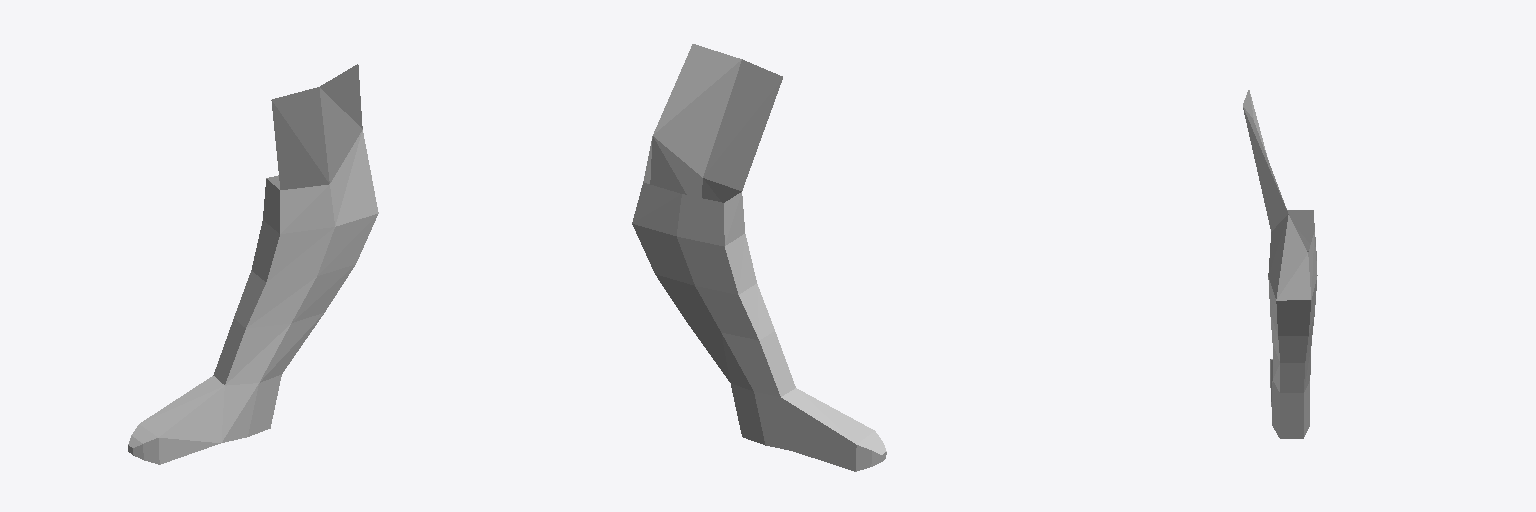
Rendered from IzqFront.obj.
The picture shows the model from 3 angles: view 1: azimuth 30°, elevation 25°; view 2: azimuth 150°, elevation 25°; view 3: azimuth 270°, elevation 25°; orthographic projection.
Visible parts, largest first — view 1: Tigre:polySurface4; view 2: Tigre:polySurface4; view 3: Tigre:polySurface4.
Boxes of the visible parts, <box> form: Tigre:polySurface4: <box>128,64,378,464</box>; Tigre:polySurface4: <box>632,44,886,471</box>; Tigre:polySurface4: <box>1243,90,1317,438</box>.
Bounding box in the file's own units: 0.551 × 0.7876 × 0.1481.